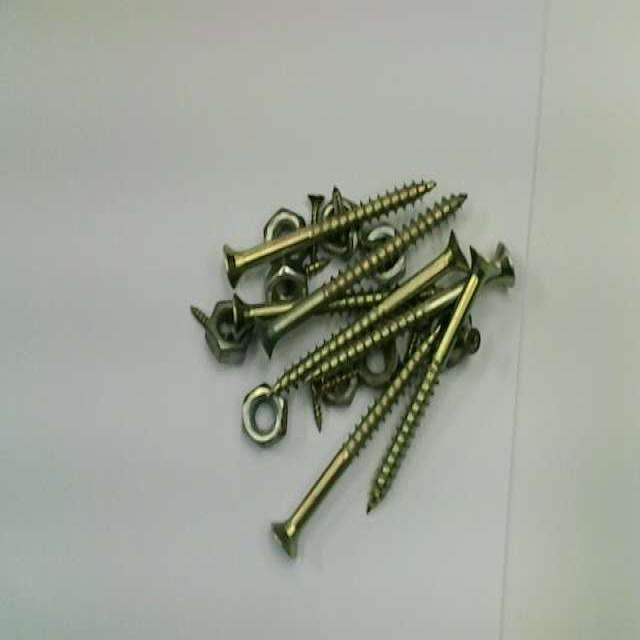Parafuso: (272, 327, 440, 558), (261, 195, 465, 355), (269, 232, 467, 394), (381, 247, 502, 489), (224, 182, 434, 286), (319, 280, 465, 373), (232, 295, 293, 326), (448, 326, 480, 366), (320, 370, 355, 397), (402, 330, 422, 365), (309, 382, 322, 431), (308, 194, 323, 225), (305, 259, 329, 278), (332, 187, 344, 216)
Porca: (191, 302, 249, 363), (242, 383, 287, 446), (357, 339, 398, 389), (445, 316, 480, 367), (265, 263, 307, 302), (264, 208, 305, 242), (322, 372, 359, 406), (321, 228, 357, 259), (373, 254, 405, 287)
